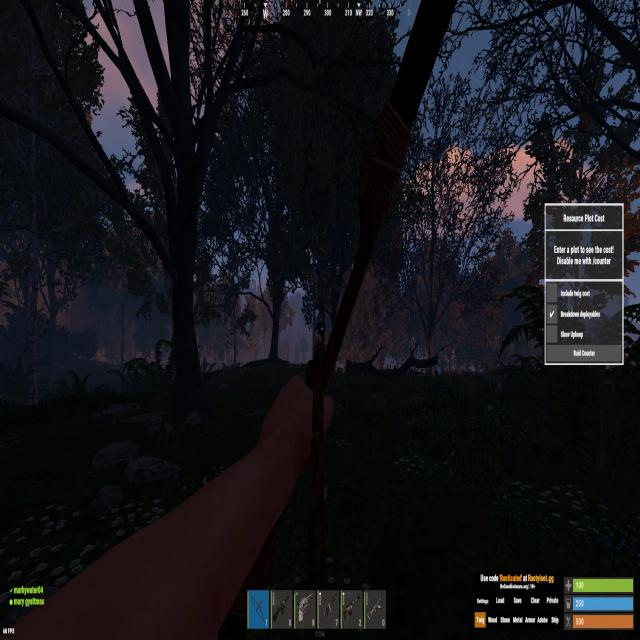Player: (314, 313, 327, 353)
